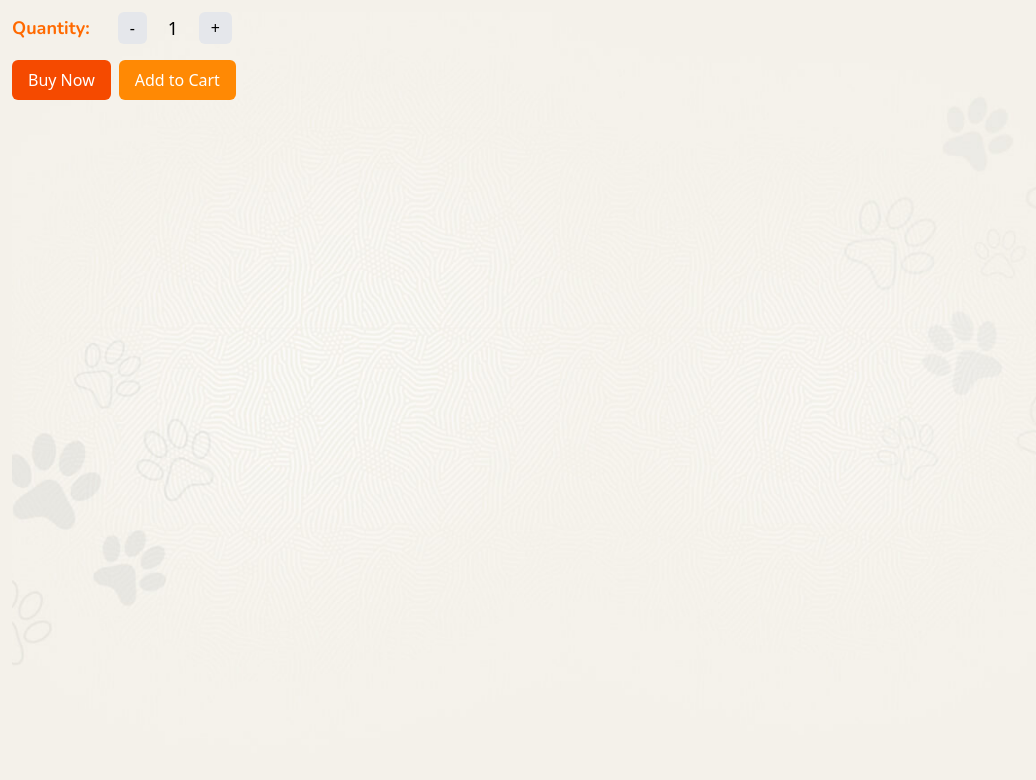
Scenario: UserButtons › decreases quantity when - button is clicked
Click the button "+" at (215, 28), box top-left (199, 12), bottom-right (232, 44)
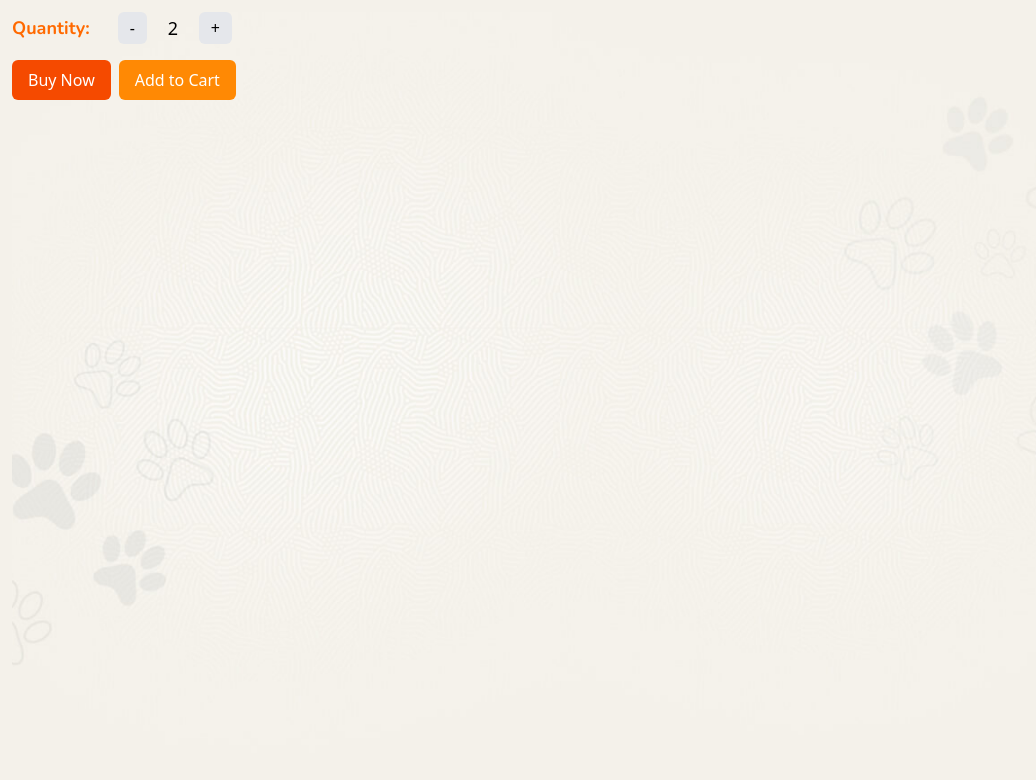
Click the button "-" at (132, 28), box top-left (118, 12), bottom-right (147, 44)
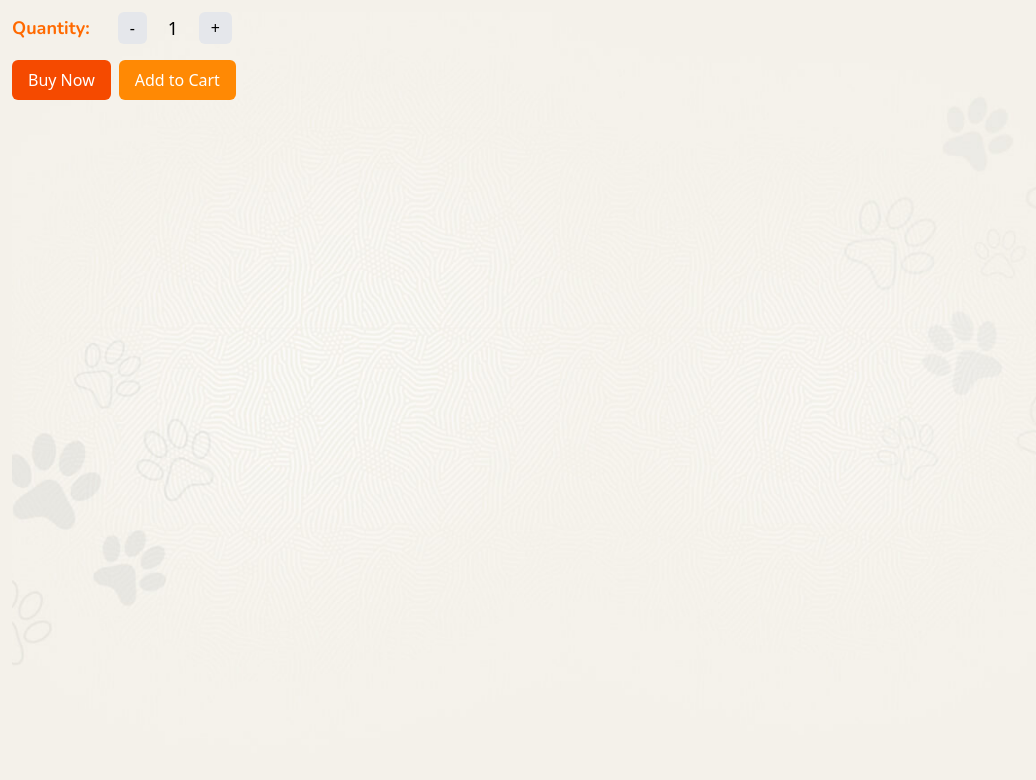
expect the field showing "1" is shown: met, box top-left (157, 14), bottom-right (189, 42)
